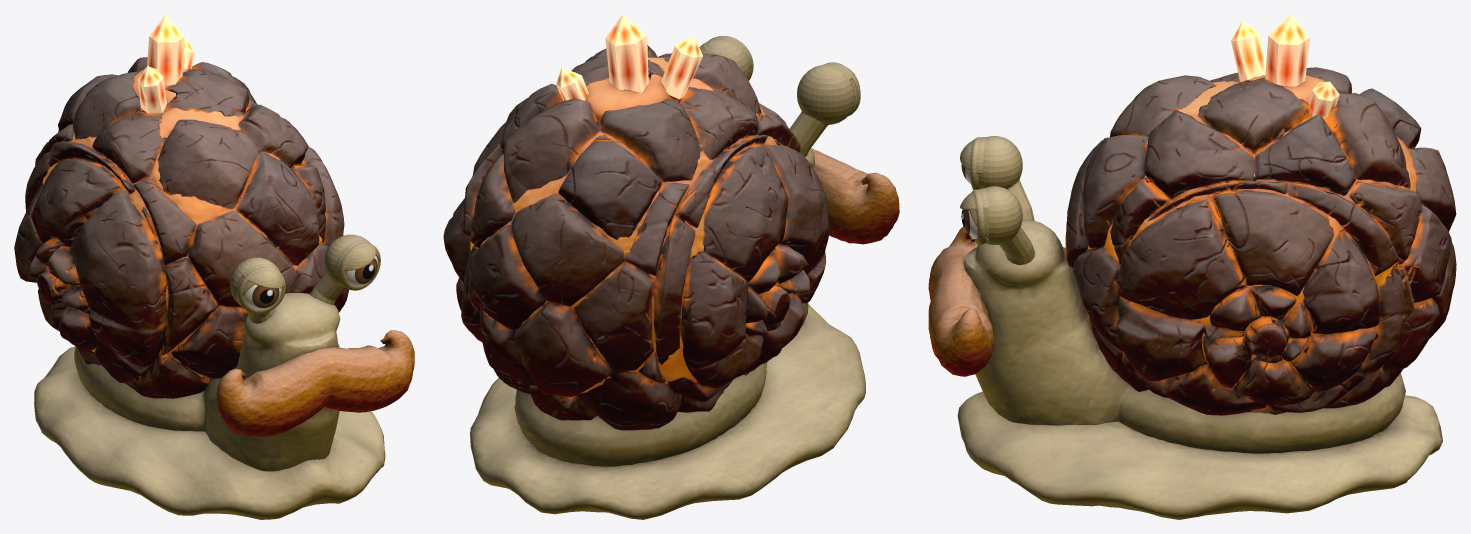
Rendered from rock_snail_ember.glb.
The picture shows the model from 3 angles, left to right: view 1: azimuth 30°, elevation 25°; view 2: azimuth 150°, elevation 25°; view 3: azimuth 270°, elevation 25°; orthographic projection. The views are drawn at different scales.
Visible parts, largest first — view 1: body, soft_body, soft_foot, stalktip_r, stalktip_l; view 2: body, soft_foot, soft_body, stalktip_l, stalktip_r; view 3: body, soft_body, soft_foot, stalktip_r, stalktip_l.
Part boxes in pixels (x1,y1,x2,y2): body: (14, 14, 348, 398); soft_body: (74, 293, 414, 471); soft_foot: (34, 346, 385, 519); stalktip_r: (315, 234, 380, 299); stalktip_l: (230, 257, 285, 318); body: (443, 14, 829, 430); soft_foot: (470, 304, 865, 519); soft_body: (514, 148, 899, 466); stalktip_l: (790, 62, 860, 149); stalktip_r: (699, 36, 753, 80); body: (1065, 14, 1456, 415); soft_body: (928, 220, 1405, 453); soft_foot: (957, 391, 1442, 519); stalktip_r: (960, 186, 1031, 258); stalktip_l: (960, 136, 1030, 210).
Size of the model in its own units: 0.8377 by 1.17 by 1.26.
Materials: 15 (12 with a texture image).
